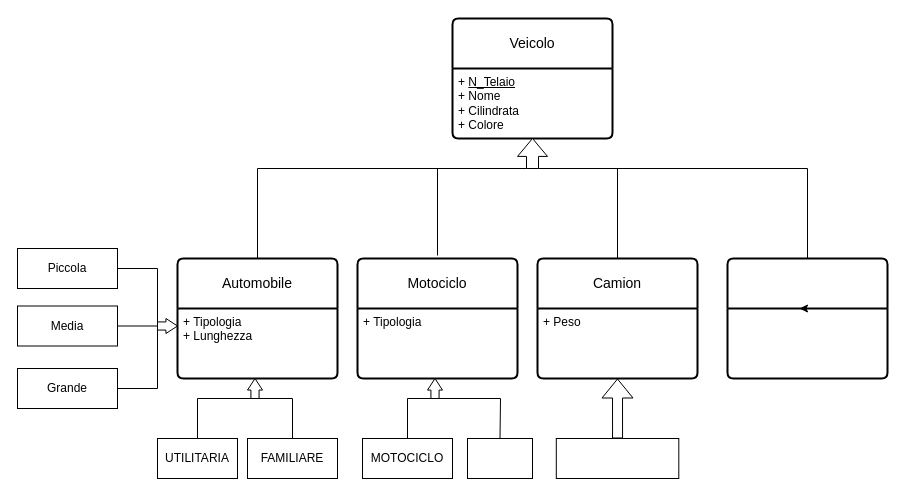
The diagram is 906 pixels wide and 496 high, and some of its shapes have lost their labels. Each missing label, with the centre of its shape:
"AUTOARTICOLATO" goes at pixel 617 458.
"MOTO" goes at pixel 499 458.
"Trattore" goes at pixel 807 318.
